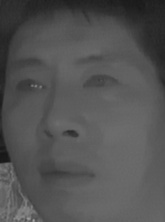eye: (81, 71, 119, 94), (12, 75, 47, 96)
mouth: (35, 154, 97, 195)
